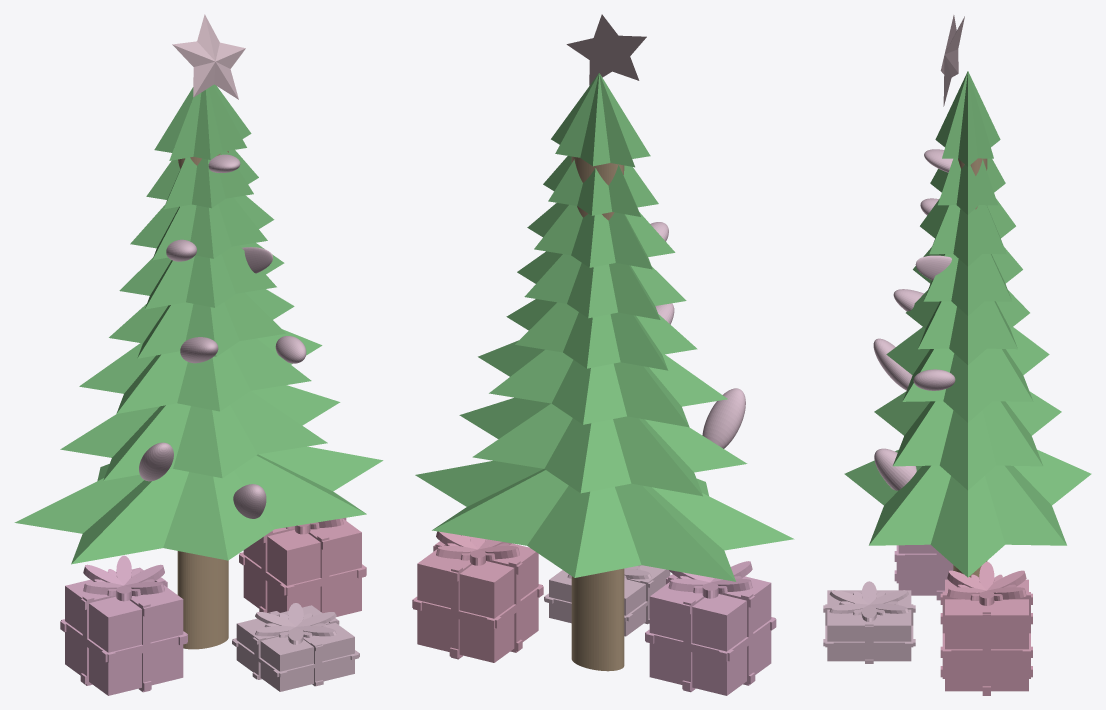
The model's file is ChristmasTree4.glb.
The picture shows the model from 3 angles, left to right: view 1: azimuth 30°, elevation 25°; view 2: azimuth 150°, elevation 25°; view 3: azimuth 270°, elevation 25°; orthographic projection. The views are drawn at different scales.
Parts seen in each view (by area): view 1: Mesh_Mesh_head_geo.001_lambert2SG.001; view 2: Mesh_Mesh_head_geo.001_lambert2SG.001; view 3: Mesh_Mesh_head_geo.001_lambert2SG.001.
Boxes of the visible parts, box(x1,y1,x2,y2) form: Mesh_Mesh_head_geo.001_lambert2SG.001: box(14, 14, 383, 695); Mesh_Mesh_head_geo.001_lambert2SG.001: box(412, 14, 794, 695); Mesh_Mesh_head_geo.001_lambert2SG.001: box(823, 15, 1091, 695).
Bounding box in the file's own units: 0.091 × 0.1603 × 0.064.
